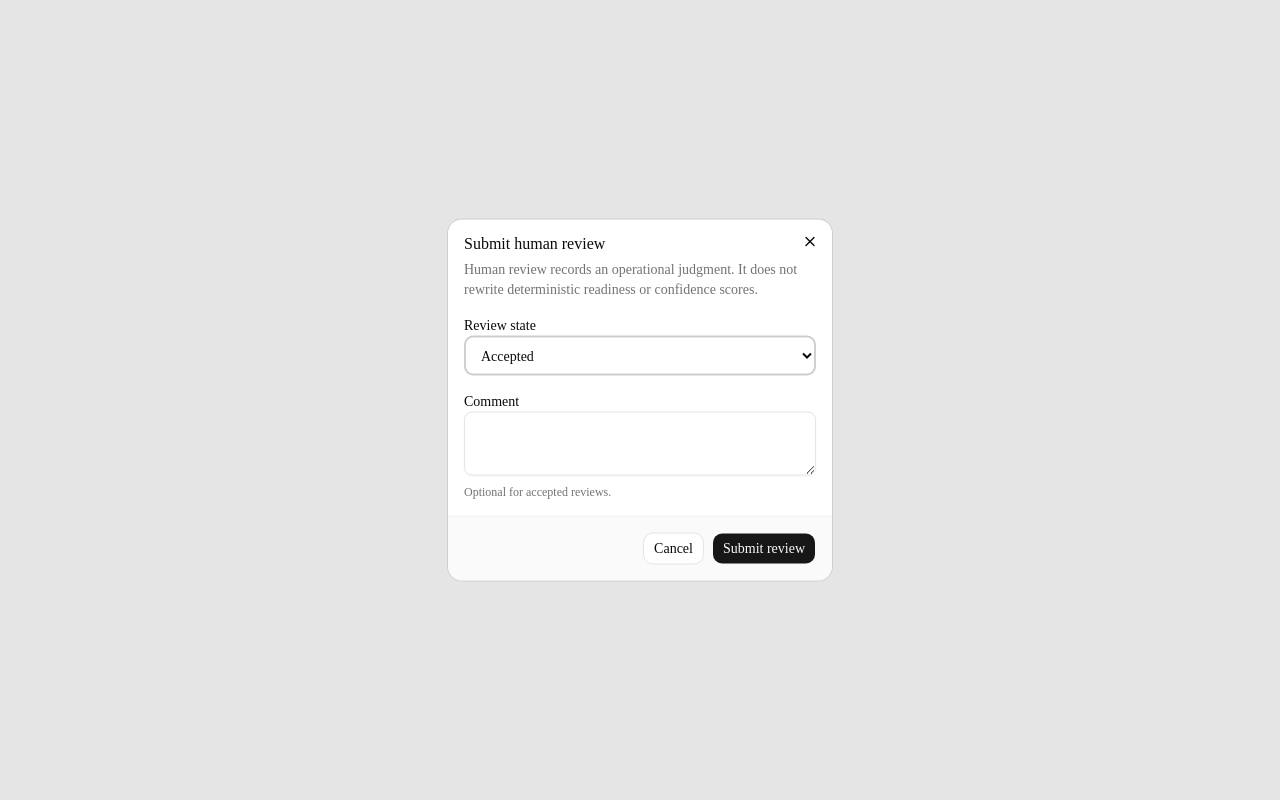
ReviewDialog validation › requires comment for needs_more_data
This screenshot has width=1280, height=800.
Select "Needs more data" in the dropdown labelled "Review state": (640,356) [464, 336, 816, 376]
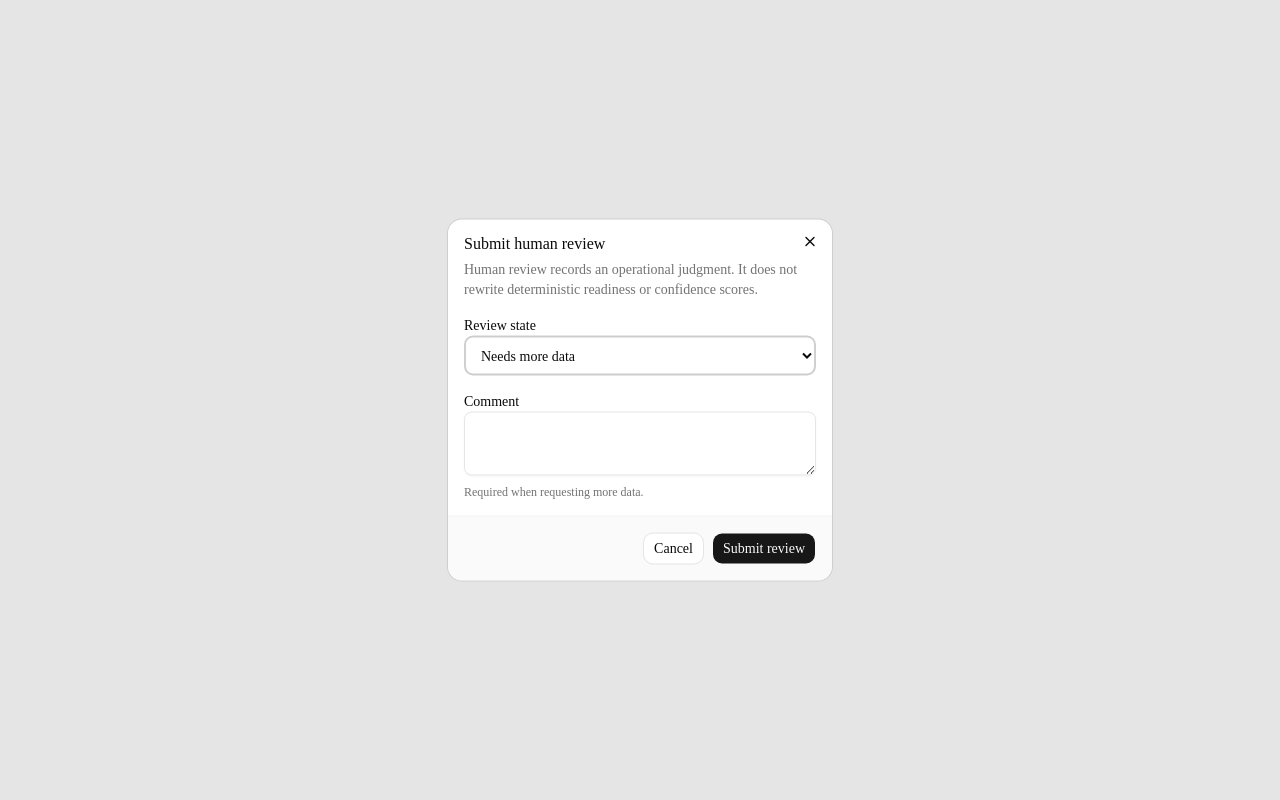
Click the button "Submit review": (764,548) [712, 532, 816, 564]
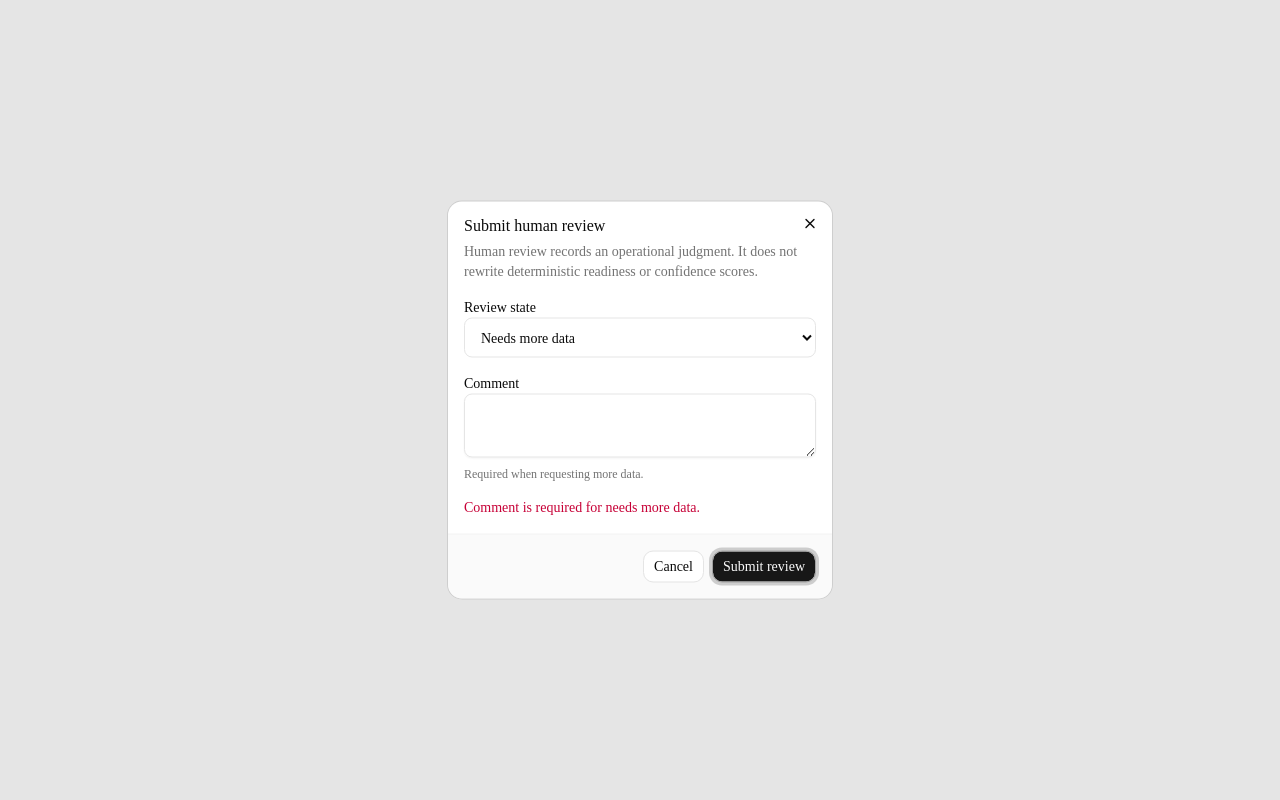
Now the message shows "Comment is required", box [464, 500, 700, 514]
